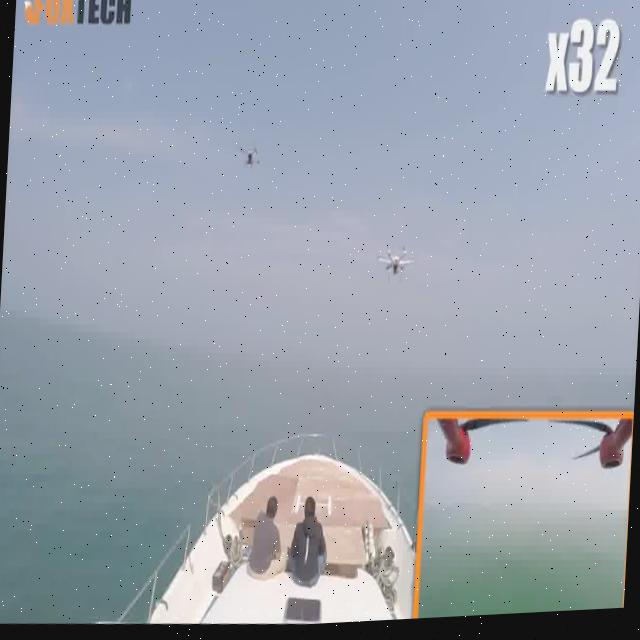drone: (232, 132, 270, 177)
